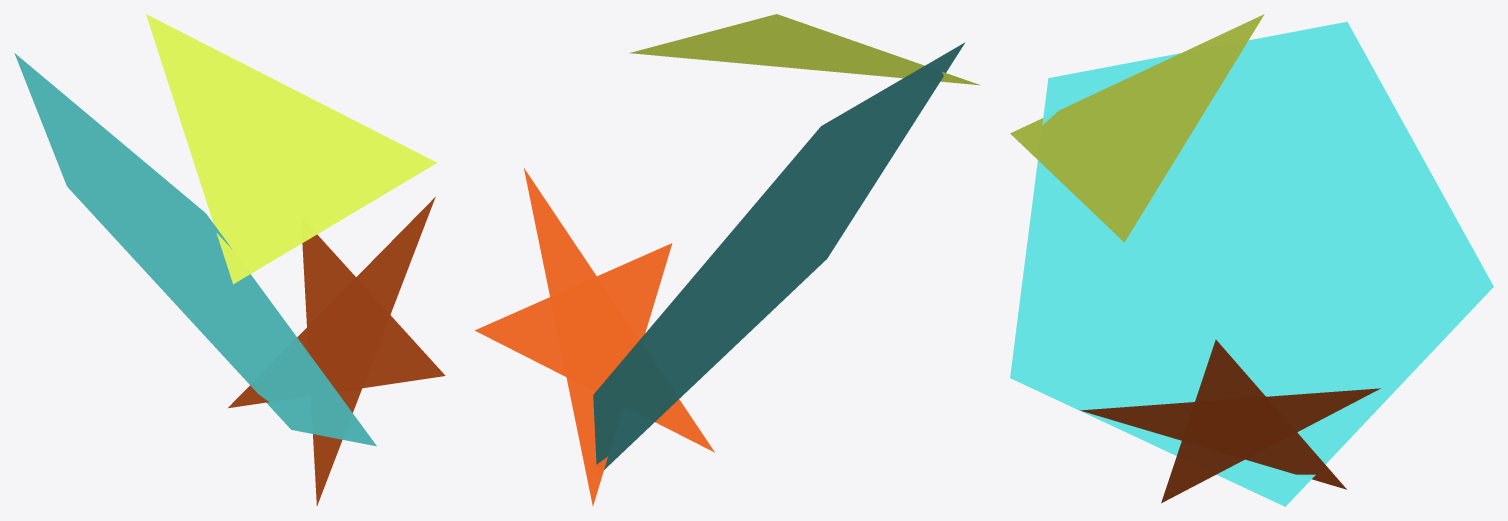
Rendered from InvertedSnubDodecadodecahedronF.obj.
3 views of the same model, side by side, from view 1: azimuth 30°, elevation 25°; view 2: azimuth 150°, elevation 25°; view 3: azimuth 270°, elevation 25° (orthographic). The views are drawn at different scales.
Bounding box in the file's own units: 1.21 × 1.59 × 1.59.
